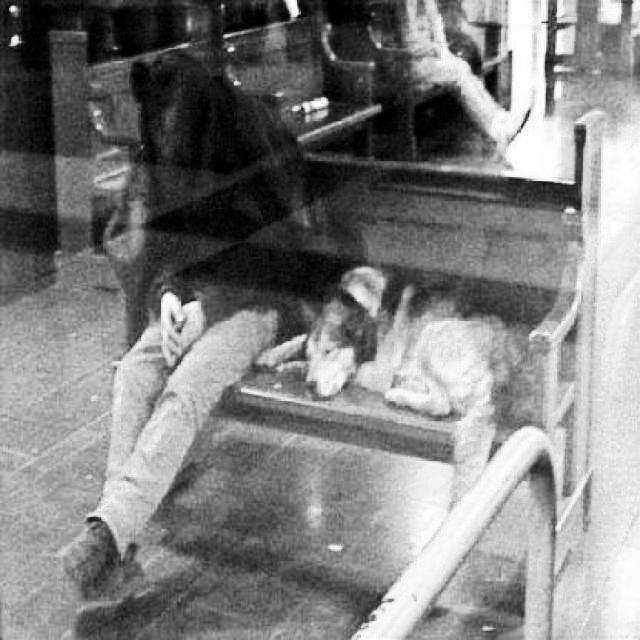Dog: (257, 251, 524, 421)
Person: (62, 46, 317, 588)
